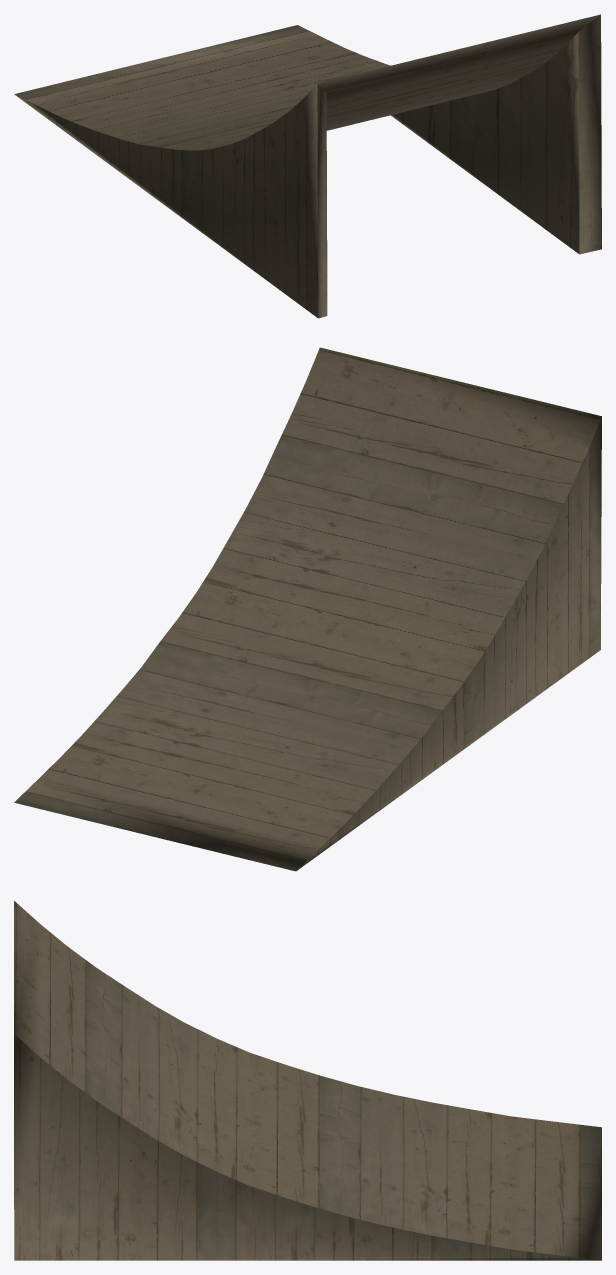
Rendered from ramp.glb.
3 views of the same model, one above another, from view 1: azimuth 30°, elevation 25°; view 2: azimuth 150°, elevation 25°; view 3: azimuth 270°, elevation 25° (orthographic). The views are drawn at different scales.
Parts seen in each view (by area): view 1: Skate ramp.001; view 2: Skate ramp.001; view 3: Skate ramp.001.
Boxes of the visible parts, box(x1,y1,x2,y2) form: Skate ramp.001: box(14, 14, 601, 318); Skate ramp.001: box(14, 347, 601, 871); Skate ramp.001: box(14, 901, 601, 1260).
Size of the model in its own units: 0.7636 by 0.6163 by 1.41.
1 material, 1 textured.
